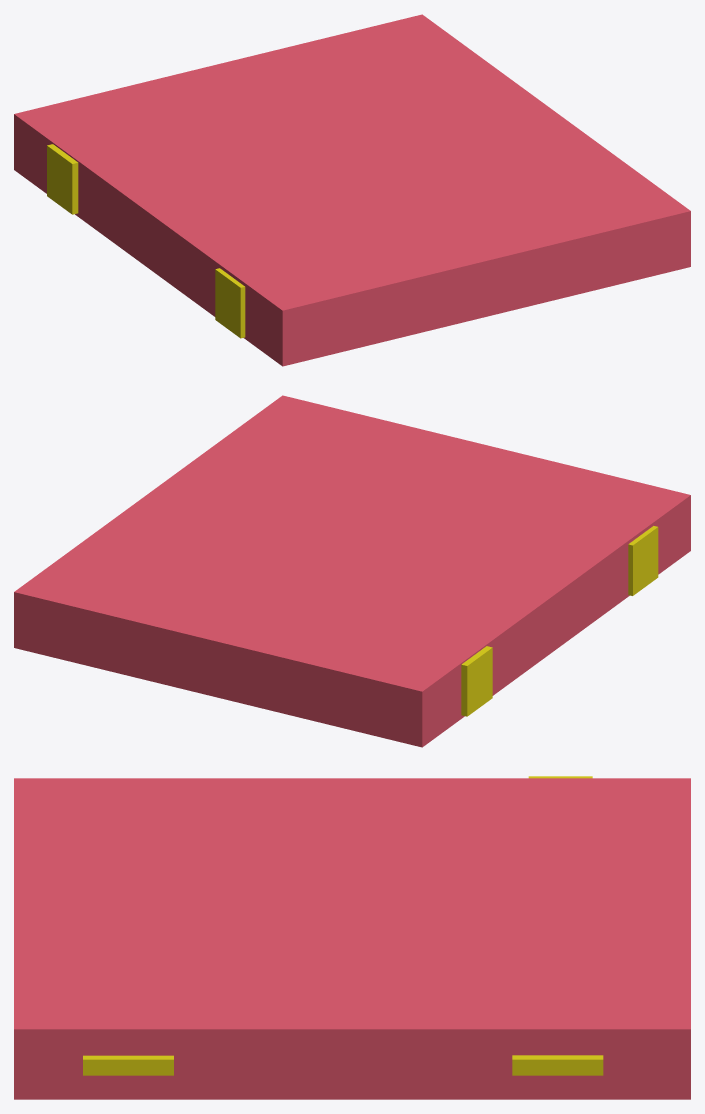
The model's file is botiquin_bueno.fbx.
3 renders of one model, top to bottom at view 1: azimuth 30°, elevation 25°; view 2: azimuth 150°, elevation 25°; view 3: azimuth 270°, elevation 25°, orthographic. The views are drawn at different scales.
Parts seen in each view (by area): view 1: Cube.001; view 2: Cube.001; view 3: Cube.001.
Boxes of the visible parts, x1,y1,x2,y2 form: Cube.001: (14, 14, 690, 366); Cube.001: (14, 395, 690, 747); Cube.001: (14, 776, 690, 1099).
Bounding box in the file's own units: 263 × 41.91 × 290.
